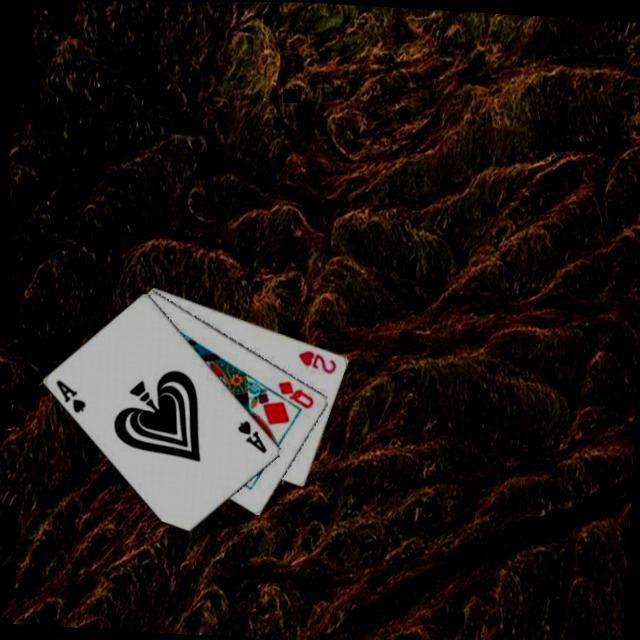2H: (293, 346, 338, 374)
AS: (50, 374, 88, 414), (232, 415, 270, 453)
QD: (272, 375, 316, 409)
